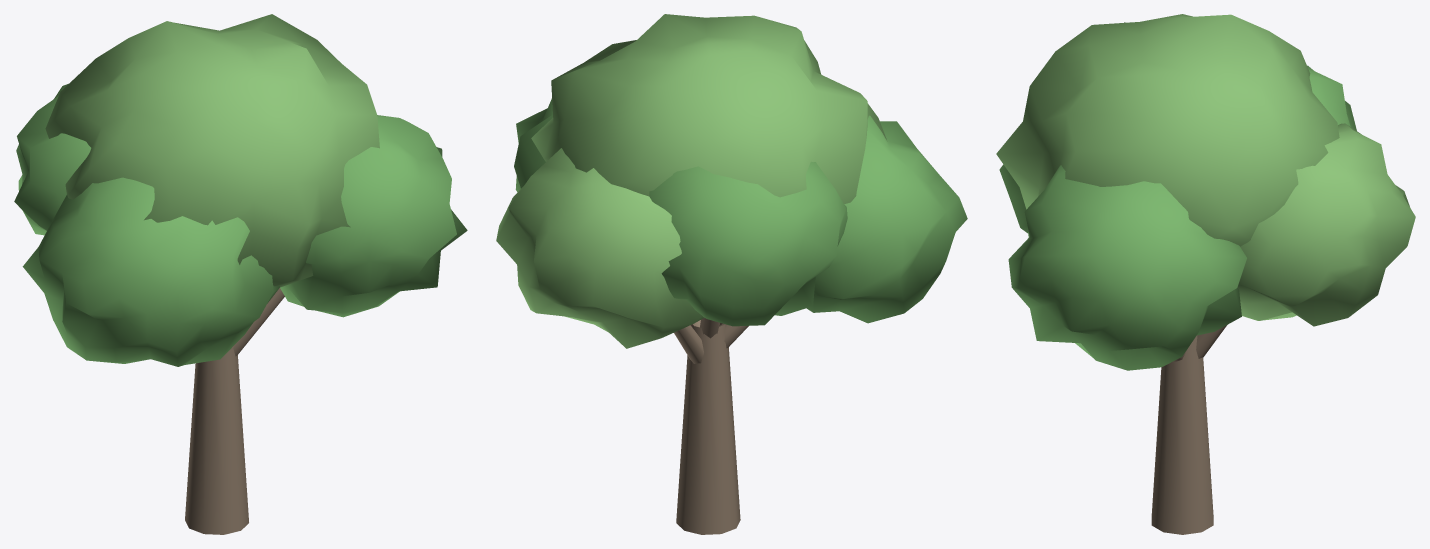
The model's file is oak_broadleaf.glb.
The picture shows the model from 3 angles, left to right: view 1: azimuth 30°, elevation 25°; view 2: azimuth 150°, elevation 25°; view 3: azimuth 270°, elevation 25°; orthographic projection.
Visible parts, largest first — view 1: RootNode; view 2: RootNode; view 3: RootNode.
Boxes of the visible parts, x1,y1,x2,y2 form: RootNode: [14, 14, 467, 534]; RootNode: [496, 14, 967, 534]; RootNode: [996, 14, 1415, 534].
Size of the model in its own units: 13.88 by 15.87 by 12.22.
